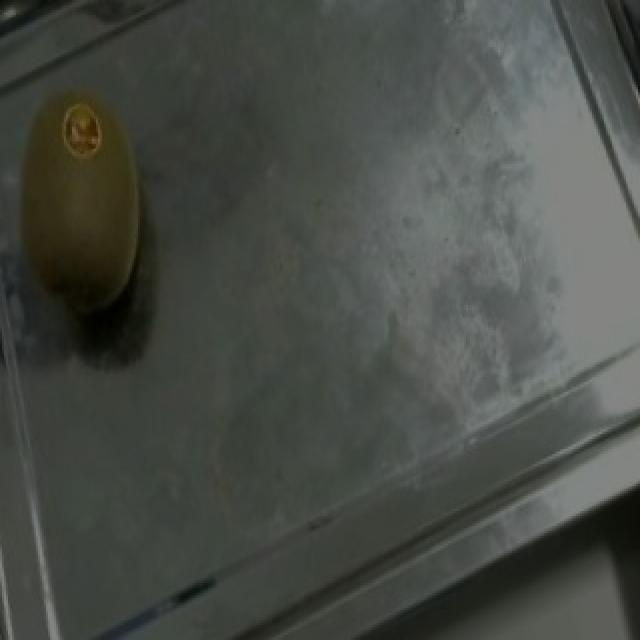Fruit: (0, 75, 186, 338)
